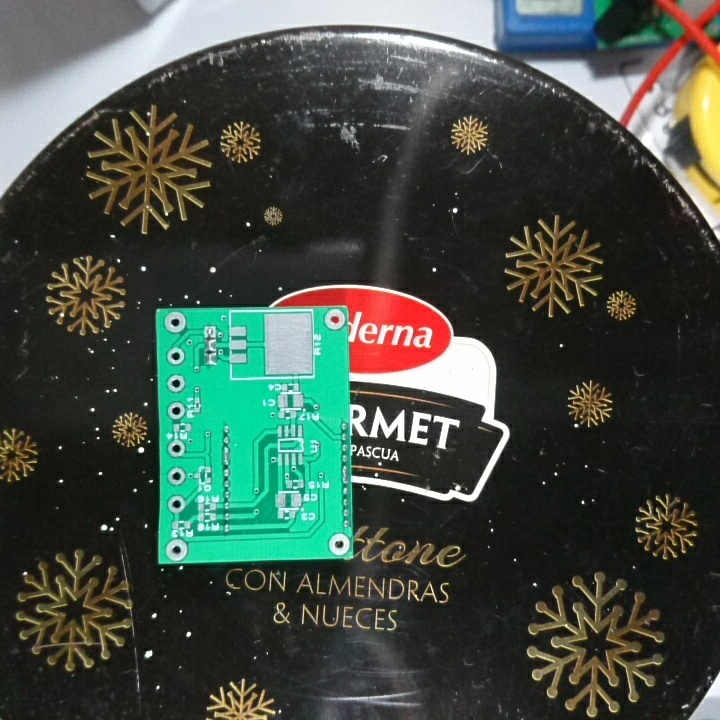F: (324, 532, 353, 557), (162, 309, 187, 335), (321, 308, 347, 333), (165, 536, 191, 561), (164, 344, 187, 369), (163, 438, 187, 461), (165, 464, 187, 489), (165, 373, 189, 394), (166, 494, 189, 515), (165, 402, 187, 421), (201, 323, 219, 339)
P: (339, 463, 353, 486), (222, 446, 235, 466)
